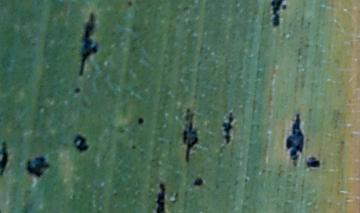tarspot: (80, 12, 98, 76), (286, 113, 304, 166), (182, 108, 198, 162), (26, 155, 50, 178), (222, 112, 235, 144), (71, 134, 89, 153), (156, 182, 167, 213), (1, 141, 8, 177), (272, 1, 282, 26), (305, 155, 321, 169), (192, 176, 203, 187), (136, 116, 145, 125), (280, 1, 288, 11), (73, 86, 82, 94), (241, 176, 250, 184), (131, 143, 137, 150), (127, 1, 133, 7)
